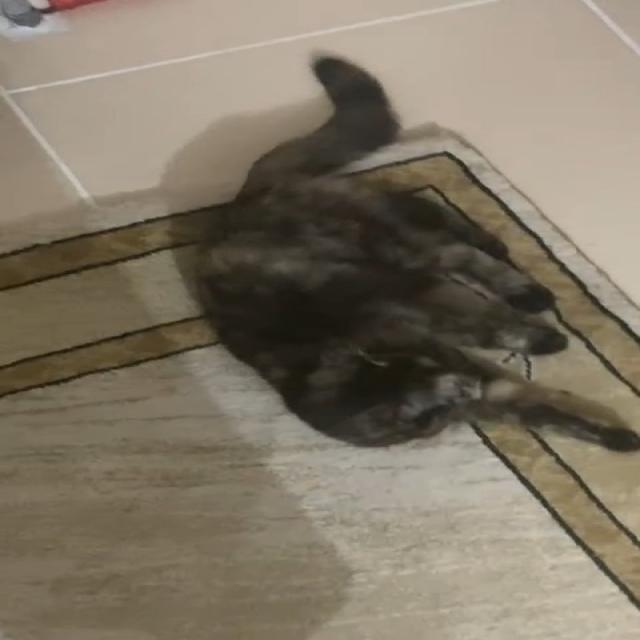authorized: (186, 52, 638, 454)
